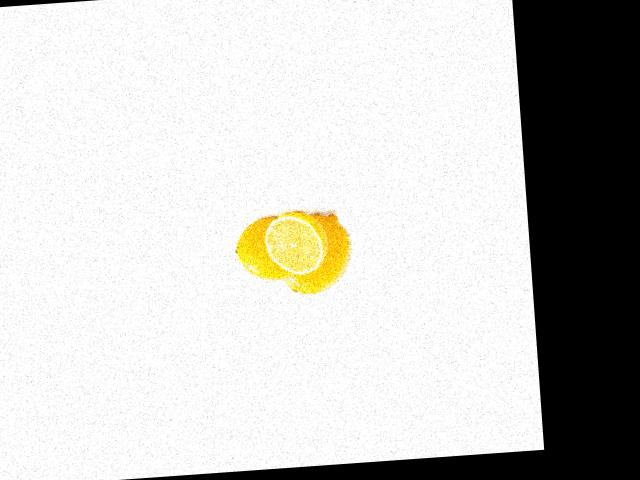lemon: (234, 212, 311, 284)
